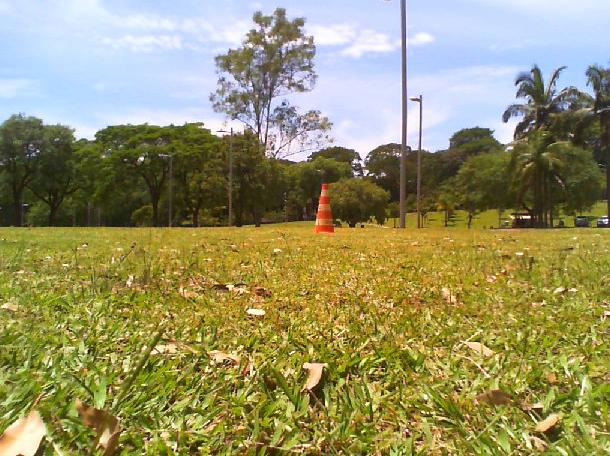0 cone: (314, 184, 334, 233)
